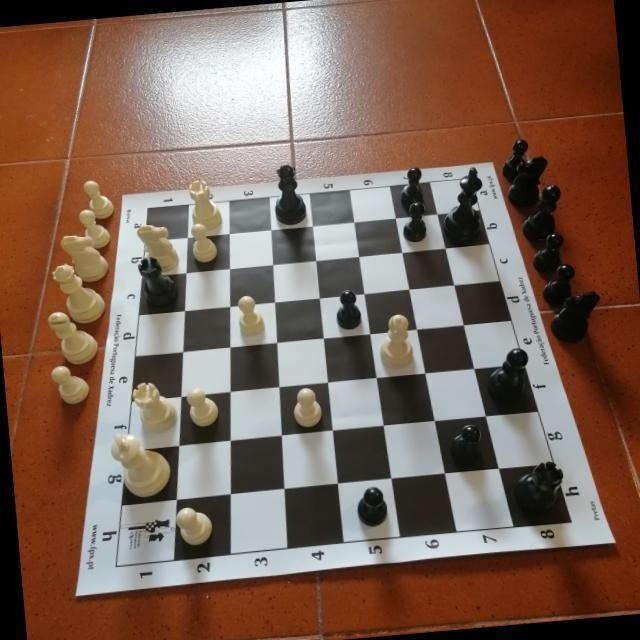black-bishop: (483, 345, 532, 407), (518, 182, 566, 245)
black-king: (437, 165, 487, 245)
black-knight: (546, 289, 605, 347), (503, 153, 553, 211)
black-pawn: (538, 261, 578, 307), (528, 231, 567, 276), (447, 422, 485, 466), (354, 483, 390, 529), (498, 138, 532, 182), (398, 200, 429, 244), (397, 164, 427, 209), (333, 288, 363, 332)
black-queen: (270, 161, 307, 226)
black-rook: (510, 458, 567, 517), (137, 253, 179, 309)
white-bishop: (46, 308, 100, 368), (375, 313, 414, 371)
white-king: (107, 428, 173, 500)
white-knight: (58, 231, 110, 285), (135, 221, 181, 274)
white-pawn: (49, 362, 91, 406), (174, 504, 214, 547), (81, 177, 115, 221), (77, 206, 111, 250), (184, 385, 219, 427), (235, 292, 266, 337), (290, 386, 323, 428), (190, 221, 218, 263)
white-queen: (49, 258, 106, 325)
white-rook: (130, 377, 179, 435), (187, 176, 223, 232)
